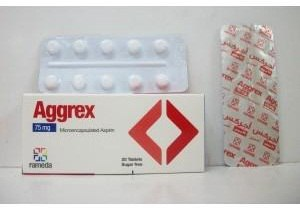Medicine: (19, 91, 209, 183), (219, 22, 282, 167)
